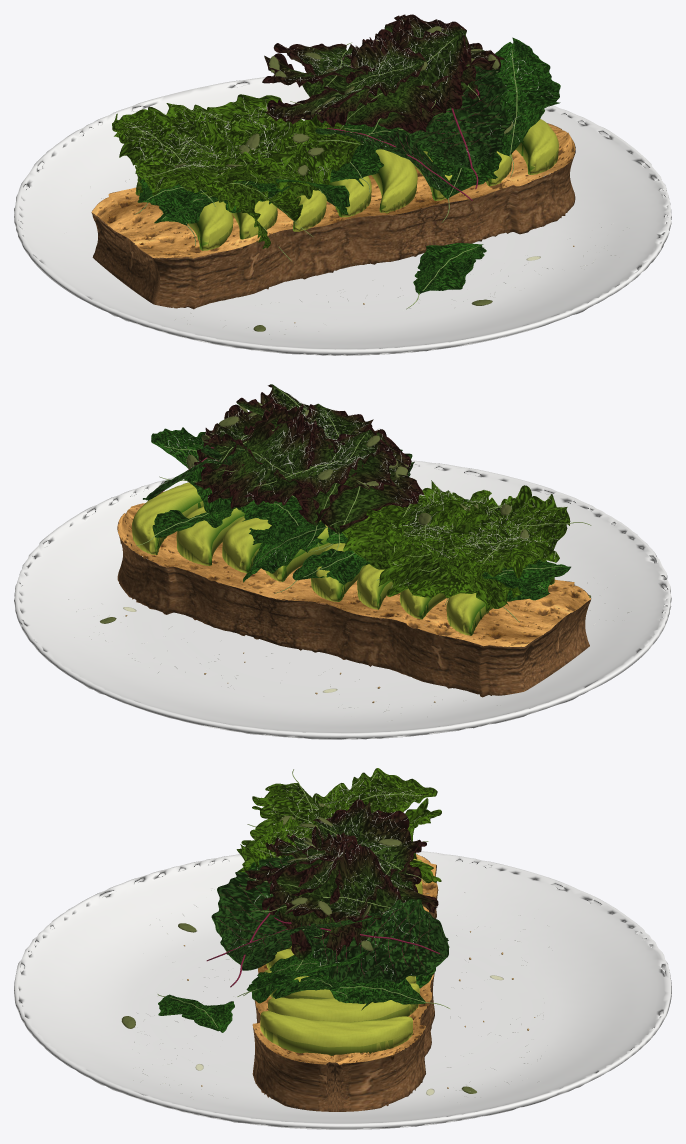
Rendered from avocado_toast_12MB.glb.
The picture shows the model from 3 angles, top to bottom: view 1: azimuth 30°, elevation 25°; view 2: azimuth 150°, elevation 25°; view 3: azimuth 270°, elevation 25°; orthographic projection.
Visible parts, largest first — view 1: Plate | 280 mm glazed porcelain with complete underside, Toast | irregular 23 mm crust with closed base, Toast | true recessed alveoli in cut surface, Leaf 29 | oak | folded living surface, Leaf 39 | chard | folded living surface, Leaf 42 | baby | folded living surface, Leaf 26 | lettuce | folded living surface, Leaf 34 | oak | folded living surface, Leaf 24 | lettuce | folded living surface, Cheese | 1660 separate fine curled shavings, Leaf 48 | baby | folded living surface, Leaf 37 | oak | folded living surface (+30 smaller); view 2: Plate | 280 mm glazed porcelain with complete underside, Toast | irregular 23 mm crust with closed base, Toast | true recessed alveoli in cut surface, Leaf 38 | oak | folded living surface, Leaf 31 | oak | folded living surface, Leaf 17 | lettuce | folded living surface, Leaf 36 | oak | folded living surface, Cheese | 1660 separate fine curled shavings, Leaf 23 | lettuce | folded living surface, Leaf 16 | lettuce | folded living surface, Avocado | thick crescent 08, Leaf 47 | baby | folded living surface (+30 smaller); view 3: Plate | 280 mm glazed porcelain with complete underside, Toast | irregular 23 mm crust with closed base, Leaf 41 | chard | folded living surface, Leaf 27 | oak | folded living surface, Avocado | thick crescent 08, Leaf 40 | chard | folded living surface, Leaf 28 | oak | folded living surface, Leaf 26 | lettuce | folded living surface, Avocado | thick crescent 07, Toast | true recessed alveoli in cut surface, Leaf 32 | oak | folded living surface, Cheese | 1660 separate fine curled shavings (+18 smaller).
Boxes of the visible parts, x1,y1,x2,y2 form: Plate | 280 mm glazed porcelain with complete underside: [14, 77, 671, 355]; Toast | irregular 23 mm crust with closed base: [91, 123, 575, 309]; Toast | true recessed alveoli in cut surface: [92, 123, 575, 258]; Leaf 29 | oak | folded living surface: [346, 30, 467, 126]; Leaf 39 | chard | folded living surface: [408, 50, 511, 168]; Leaf 42 | baby | folded living surface: [495, 37, 560, 156]; Leaf 26 | lettuce | folded living surface: [112, 109, 205, 189]; Leaf 34 | oak | folded living surface: [316, 37, 425, 127]; Leaf 24 | lettuce | folded living surface: [248, 116, 361, 199]; Cheese | 1660 separate fine curled shavings: [90, 15, 619, 334]; Leaf 48 | baby | folded living surface: [413, 243, 486, 294]; Leaf 37 | oak | folded living surface: [366, 14, 476, 133]; Plate | 280 mm glazed porcelain with complete underside: [14, 460, 671, 739]; Toast | irregular 23 mm crust with closed base: [117, 513, 591, 697]; Toast | true recessed alveoli in cut surface: [117, 503, 590, 646]; Leaf 38 | oak | folded living surface: [215, 404, 320, 508]; Leaf 31 | oak | folded living surface: [303, 430, 423, 534]; Leaf 17 | lettuce | folded living surface: [378, 503, 489, 598]; Leaf 36 | oak | folded living surface: [297, 429, 396, 525]; Cheese | 1660 separate fine curled shavings: [68, 388, 629, 720]; Leaf 23 | lettuce | folded living surface: [480, 485, 570, 578]; Leaf 16 | lettuce | folded living surface: [342, 493, 462, 569]; Avocado | thick crescent 08: [132, 482, 203, 554]; Leaf 47 | baby | folded living surface: [243, 521, 326, 582]; Plate | 280 mm glazed porcelain with complete underside: [14, 851, 671, 1129]; Toast | irregular 23 mm crust with closed base: [252, 854, 438, 1111]; Leaf 41 | chard | folded living surface: [297, 898, 448, 983]; Leaf 27 | oak | folded living surface: [278, 836, 401, 955]; Avocado | thick crescent 08: [260, 1011, 412, 1055]; Leaf 40 | chard | folded living surface: [211, 856, 295, 970]; Leaf 28 | oak | folded living surface: [311, 799, 426, 874]; Leaf 26 | lettuce | folded living surface: [312, 768, 437, 813]; Avocado | thick crescent 07: [268, 983, 419, 1022]; Toast | true recessed alveoli in cut surface: [252, 854, 437, 1064]; Leaf 32 | oak | folded living surface: [269, 866, 381, 922]; Cheese | 1660 separate fine curled shavings: [133, 773, 549, 1104].
Size of the model in its own units: 0.2809 by 0.102 by 0.2809.
Materials: 15 (7 with a texture image).
